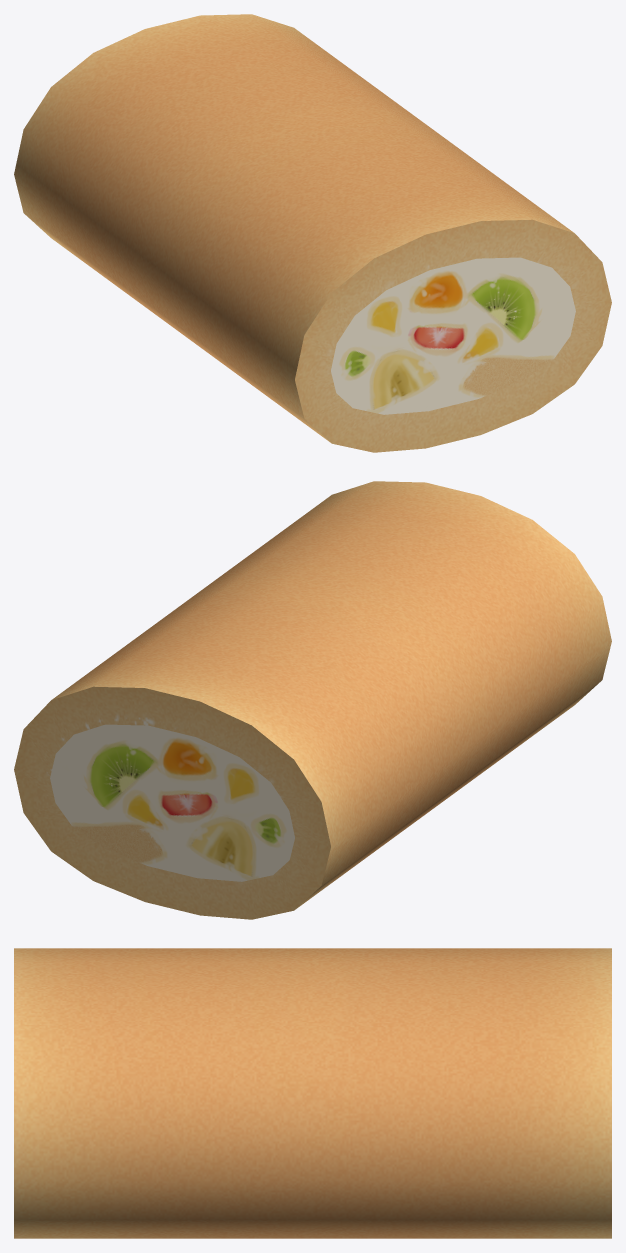
File: rollcake2.fbx
3 views of the same model, one above another, from view 1: azimuth 30°, elevation 25°; view 2: azimuth 150°, elevation 25°; view 3: azimuth 270°, elevation 25° (orthographic). The views are drawn at different scales.
Parts seen in each view (by area): view 1: Cylinder001; view 2: Cylinder001; view 3: Cylinder001.
Part boxes in pixels (box(x1,y1,x2,y2)): Cylinder001: box(14, 14, 611, 452); Cylinder001: box(14, 481, 611, 919); Cylinder001: box(14, 948, 611, 1238).
Bounding box in the file's own units: 39.2 × 25.28 × 60.12.
1 material, 1 textured.
